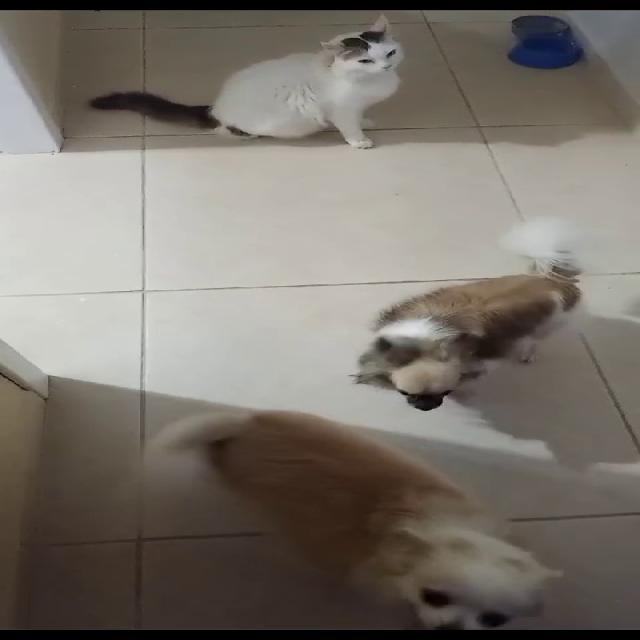Pedrita: (334, 205, 612, 428)
Simba: (199, 34, 523, 163)
Theo: (145, 370, 581, 639)
